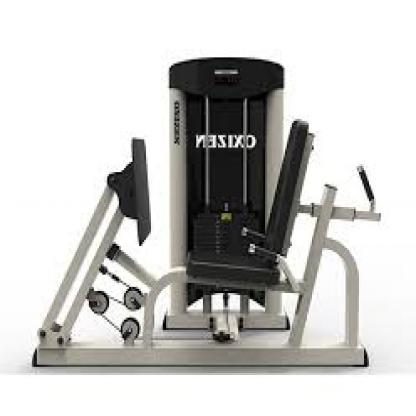leg press: (29, 52, 394, 376)
